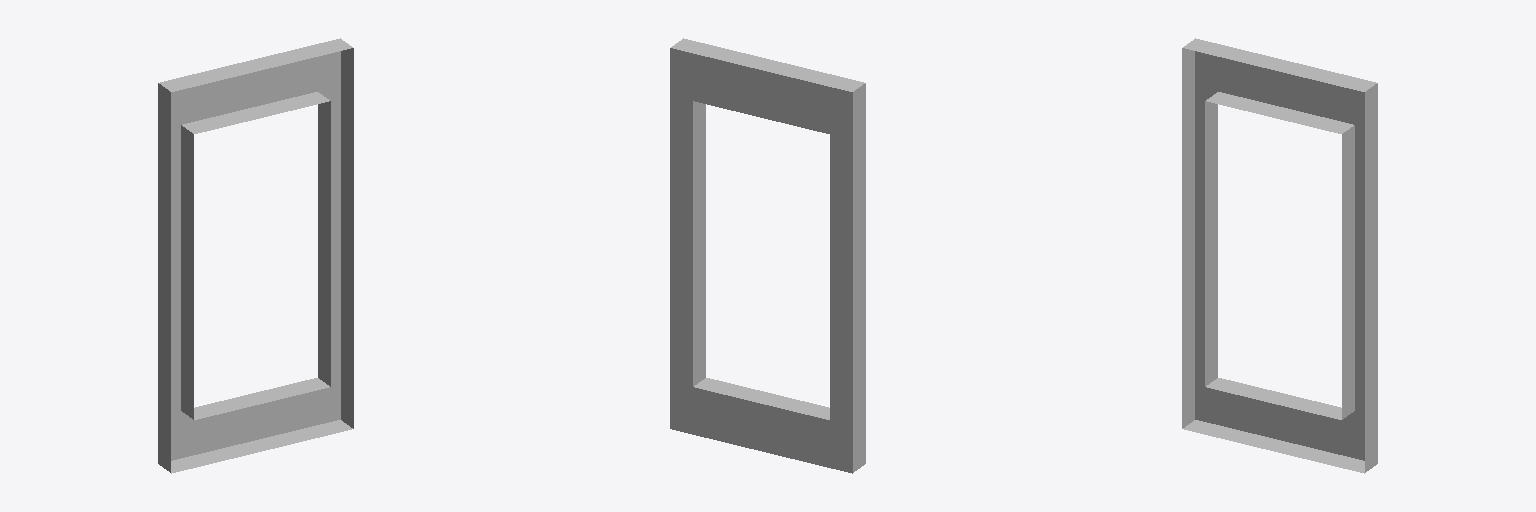
Rendered from wall_modular_plain_kitchen_window_large_B.obj.
3 renders of one model, left to right at view 1: azimuth 30°, elevation 25°; view 2: azimuth 150°, elevation 25°; view 3: azimuth 330°, elevation 25°, orthographic.
Parts seen in each view (by area): view 1: wall_modular_plain_kitchen_window_large_B; view 2: wall_modular_plain_kitchen_window_large_B; view 3: wall_modular_plain_kitchen_window_large_B.
Boxes of the visible parts, <box> form: wall_modular_plain_kitchen_window_large_B: <box>158,38,353,473</box>; wall_modular_plain_kitchen_window_large_B: <box>670,38,865,473</box>; wall_modular_plain_kitchen_window_large_B: <box>1182,38,1377,473</box>.
Size of the model in its own units: 2 by 4 by 0.2492.